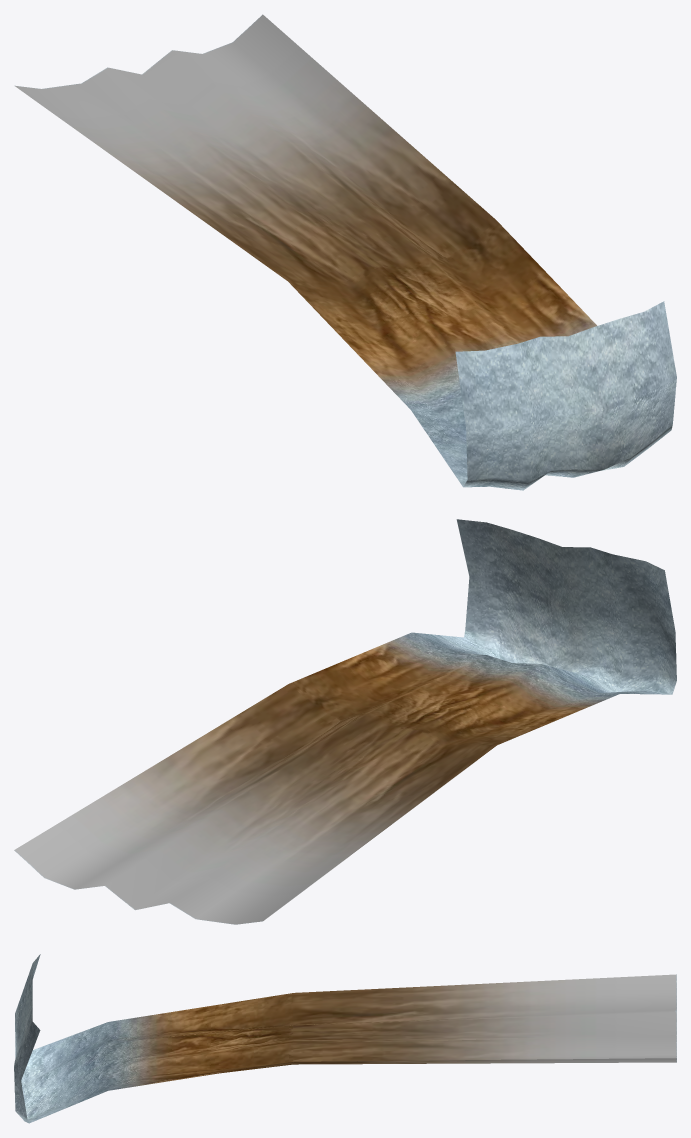
The picture shows the model from 3 angles, top to bottom: view 1: azimuth 30°, elevation 25°; view 2: azimuth 150°, elevation 25°; view 3: azimuth 270°, elevation 25°; orthographic projection. The views are drawn at different scales.
Parts seen in each view (by area): view 1: model_Object130; view 2: model_Object130; view 3: model_Object130.
Part boxes in pixels (box(x1,y1,x2,y2)): model_Object130: box(14, 14, 676, 490); model_Object130: box(14, 519, 676, 924); model_Object130: box(14, 954, 676, 1123).
Bounding box in the file's own units: 1.4 × 0.7849 × 4.28.
Materials: 1 (1 with a texture image).
